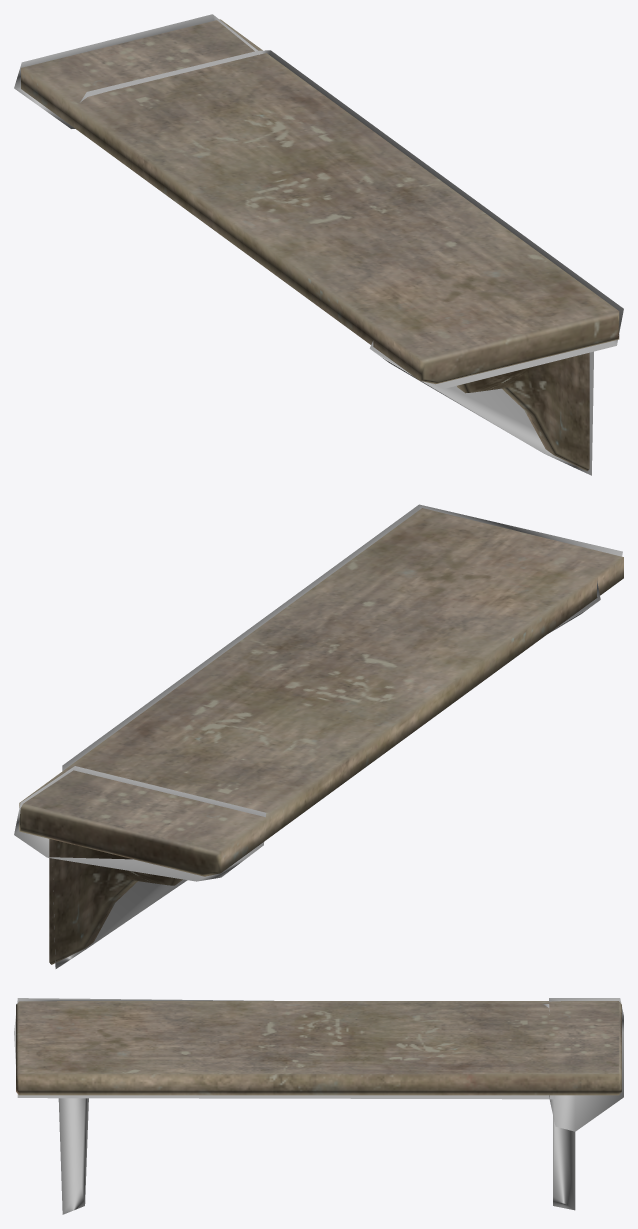
Rendered from SM_Shelf.gltf.
3 renders of one model, top to bottom at view 1: azimuth 30°, elevation 25°; view 2: azimuth 150°, elevation 25°; view 3: azimuth 270°, elevation 25°, orthographic. The views are drawn at different scales.
Visible parts, largest first — view 1: SM_Shelf_LOD0, SM_Shelf_ConvexHulls; view 2: SM_Shelf_LOD0, SM_Shelf_ConvexHulls; view 3: SM_Shelf_LOD0, SM_Shelf_ConvexHulls.
Boxes of the visible parts, x1,y1,x2,y2 form: SM_Shelf_LOD0: [21, 19, 619, 471]; SM_Shelf_ConvexHulls: [14, 14, 623, 475]; SM_Shelf_LOD0: [19, 508, 623, 964]; SM_Shelf_ConvexHulls: [14, 504, 622, 968]; SM_Shelf_LOD0: [16, 1001, 621, 1095]; SM_Shelf_ConvexHulls: [14, 998, 623, 1214].
Size of what is drawn, in the model's own units: 0.4163 by 0.3674 by 1.41.
